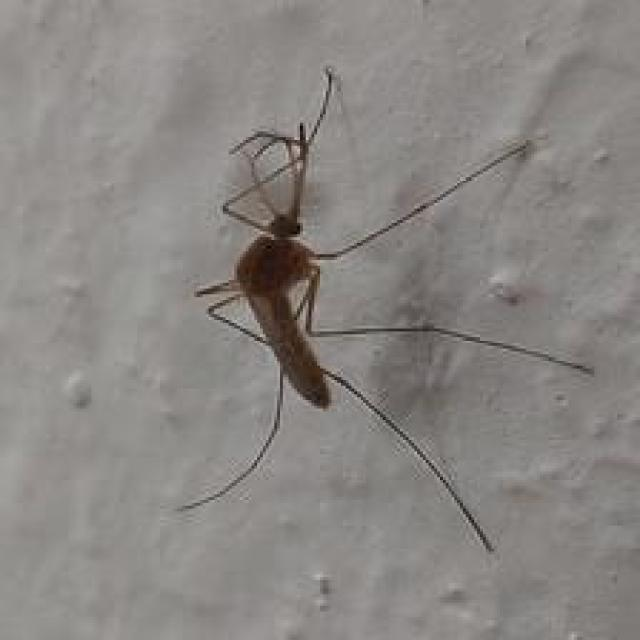Culex: (173, 64, 596, 553)
